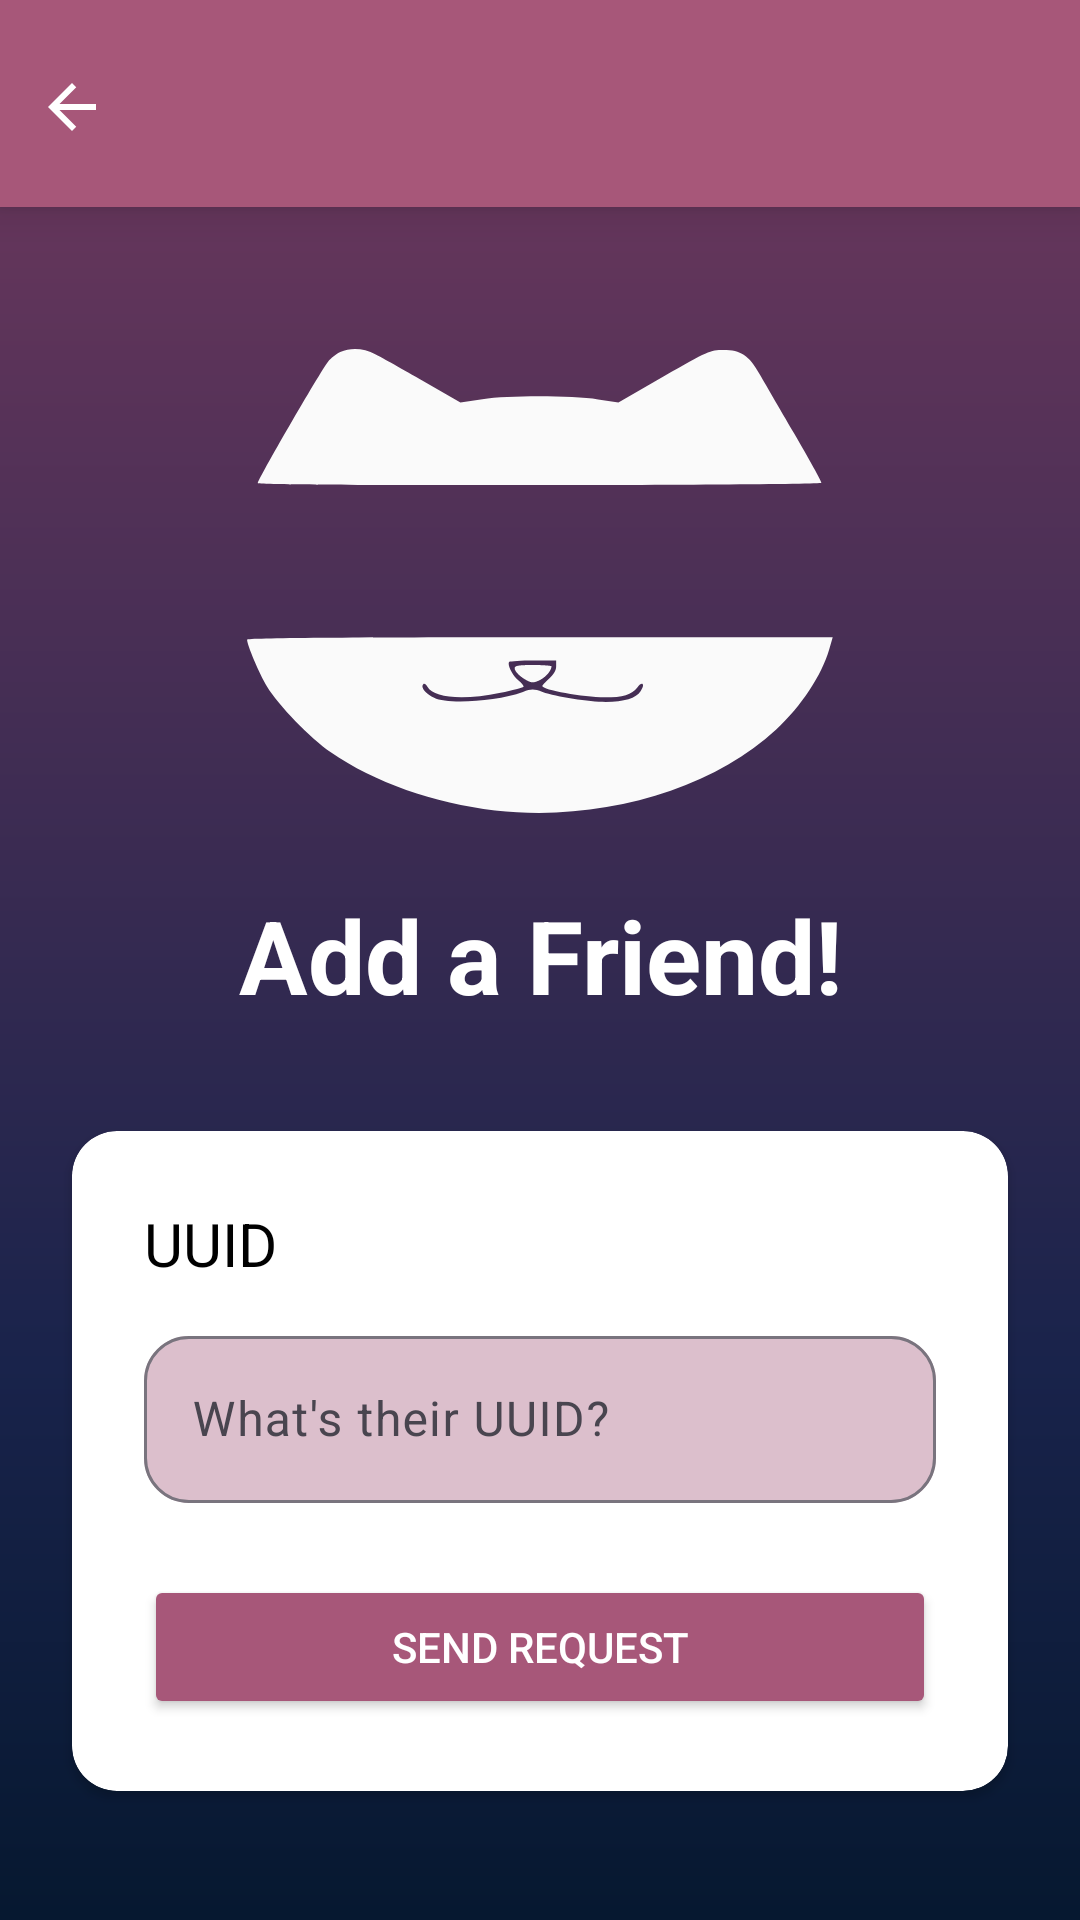

Named icons in this screenshot (1080px x 1920px) and their centers, point (x, y):
arrow back: point (72, 107)
